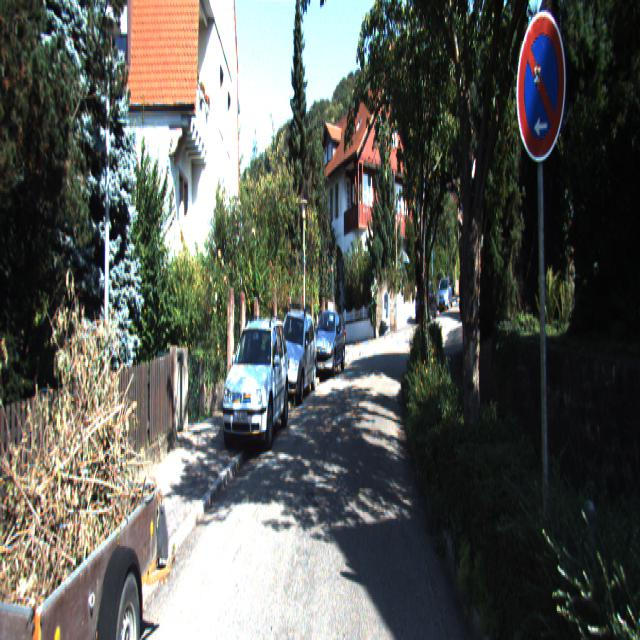Car: (0, 456, 177, 638), (219, 313, 290, 460), (272, 307, 318, 408), (312, 306, 345, 380), (414, 278, 436, 323)
